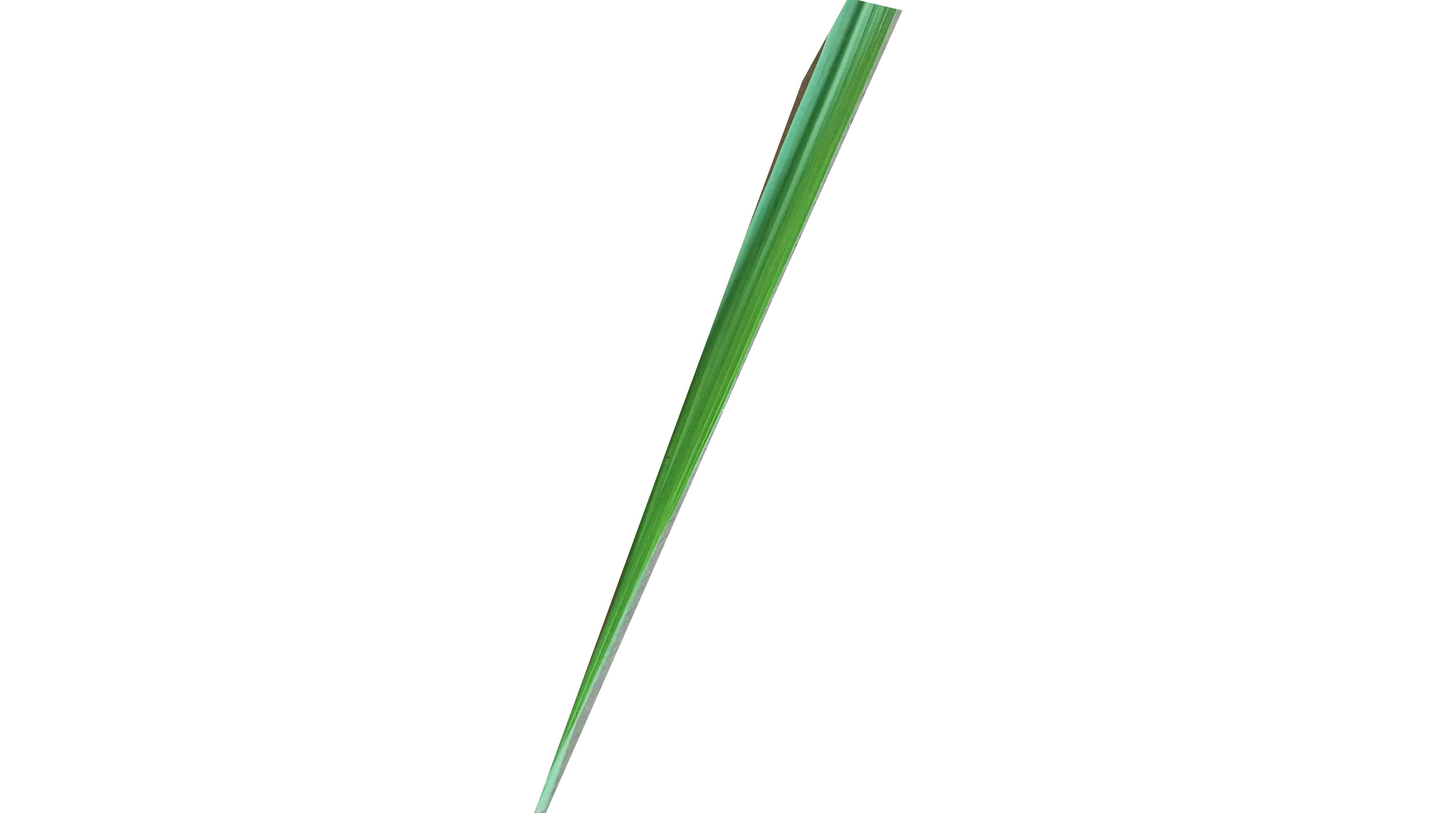Healthy: (531, 0, 902, 813)
